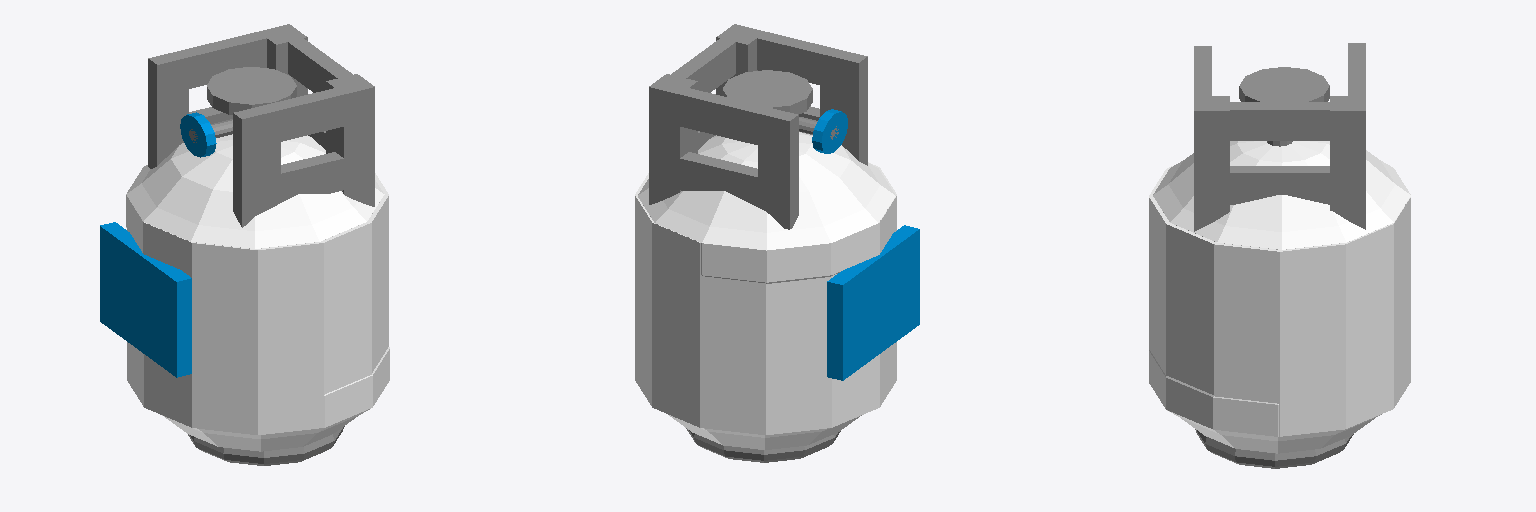
The model's file is propane.obj.
3 views of the same model, side by side, from view 1: azimuth 30°, elevation 25°; view 2: azimuth 150°, elevation 25°; view 3: azimuth 270°, elevation 25° (orthographic).
Parts seen in each view (by area): view 1: mesh_[number redacted]; view 2: mesh_[number redacted]; view 3: mesh_[number redacted].
Part boxes in pixels (x1,y1,x2,y2): mesh_[number redacted]: (100,24,389,465); mesh_[number redacted]: (635,24,919,462); mesh_[number redacted]: (1149,43,1410,468).
Bounding box in the file's own units: 29.5 × 44.33 × 29.